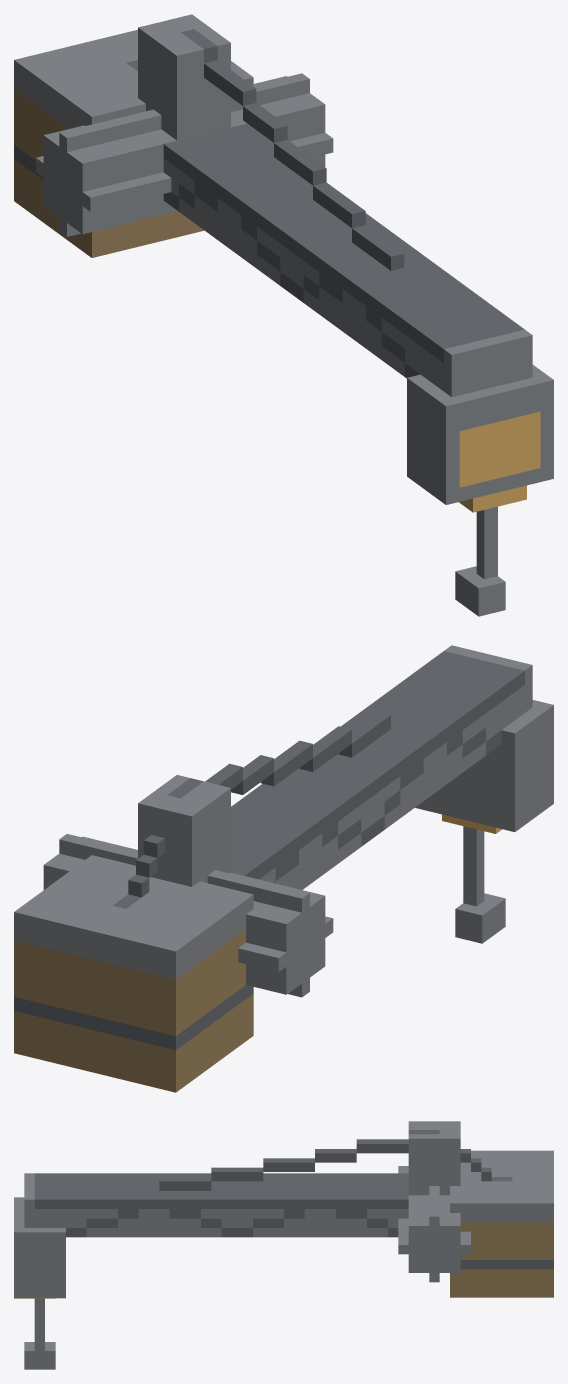
Rendered from crane.glb.
3 views of the same model, one above another, from view 1: azimuth 30°, elevation 25°; view 2: azimuth 150°, elevation 25°; view 3: azimuth 270°, elevation 25° (orthographic). The views are drawn at different scales.
Bounding box in the file's own units: 18 × 25 × 52.
